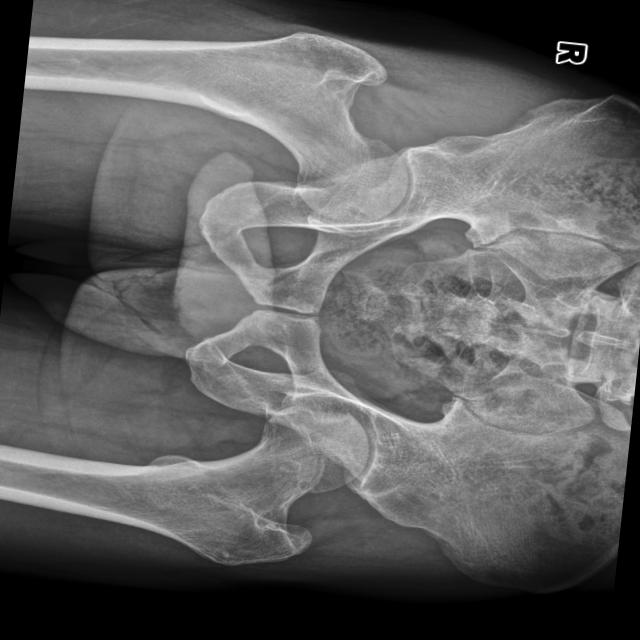normal-left: (0, 404, 367, 566)
normal-right: (23, 31, 409, 223)
